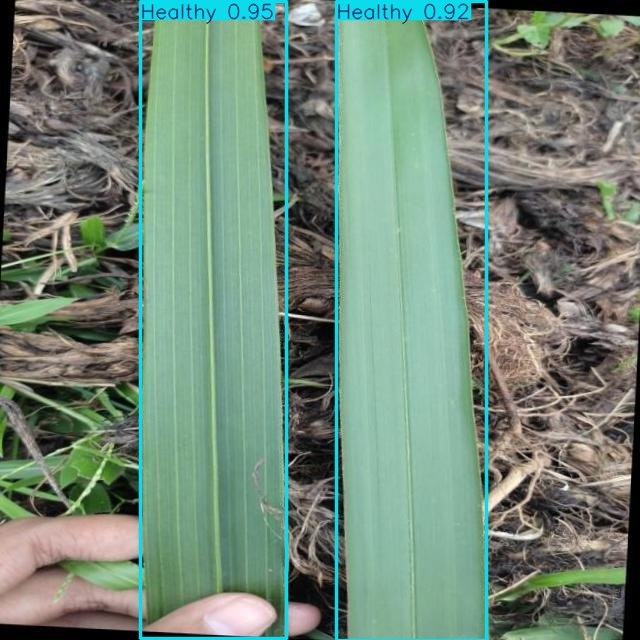Healthy: (337, 2, 487, 640), (141, 1, 286, 638)
